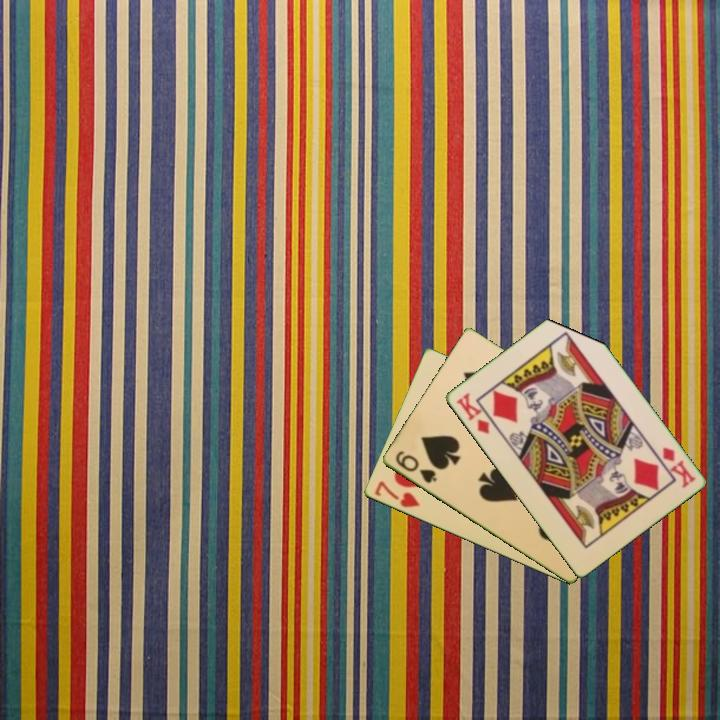6s: (391, 447, 439, 486)
7h: (371, 477, 422, 511)
Kd: (452, 389, 492, 437), (658, 443, 698, 491)
